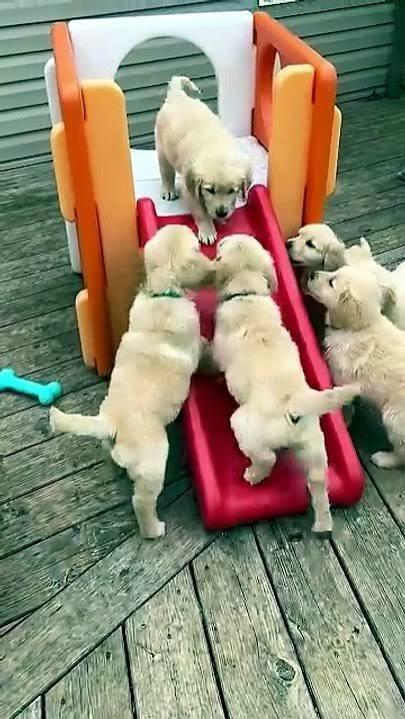puppy-dog: (46, 224, 218, 540), (199, 234, 364, 538), (304, 263, 405, 469), (154, 75, 255, 246), (285, 222, 405, 329)
